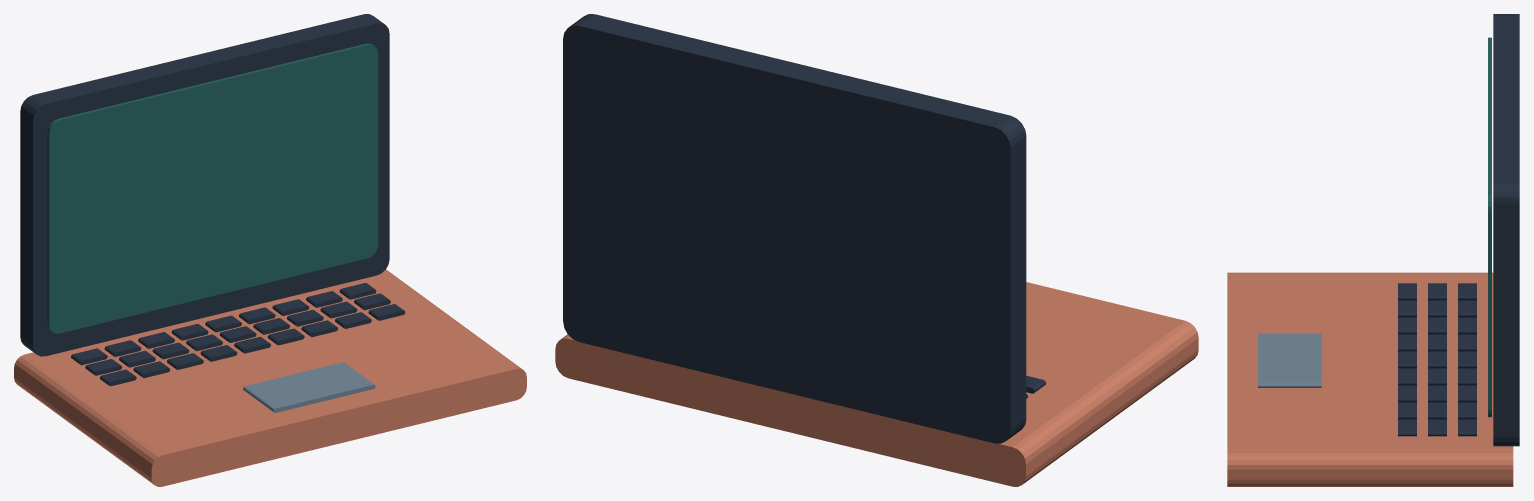
Rendered from laptop.glb.
The picture shows the model from 3 angles, left to right: view 1: azimuth 30°, elevation 25°; view 2: azimuth 150°, elevation 25°; view 3: azimuth 270°, elevation 25°; orthographic projection. The views are drawn at different scales.
Visible parts, largest first — view 1: display glass, base, display bezel, trackpad; view 2: display bezel, base; view 3: base, display bezel, trackpad, display glass, key 0-0, key 0-1, key 0-2, key 0-3, key 0-4, key 0-5, key 0-6, key 0-7 (+19 smaller).
Part boxes in pixels (<box>): display glass: <box>47,43,378,333</box>; base: <box>14,269,526,486</box>; display bezel: <box>20,14,389,356</box>; trackpad: <box>243,362,375,412</box>; display bezel: <box>563,14,1026,443</box>; base: <box>555,282,1198,486</box>; base: <box>1227,272,1513,486</box>; display bezel: <box>1493,14,1519,446</box>; trackpad: <box>1258,333,1321,387</box>; display glass: <box>1488,37,1491,417</box>; key 0-0: <box>1458,283,1476,300</box>; key 0-1: <box>1458,300,1476,317</box>; key 0-2: <box>1458,317,1476,334</box>; key 0-3: <box>1458,334,1476,351</box>; key 0-4: <box>1458,351,1476,368</box>; key 0-5: <box>1458,368,1476,385</box>; key 0-6: <box>1458,385,1476,402</box>; key 0-7: <box>1458,402,1476,419</box>.
Bounding box in the file's own units: 1.62 × 1.18 × 1.05.
